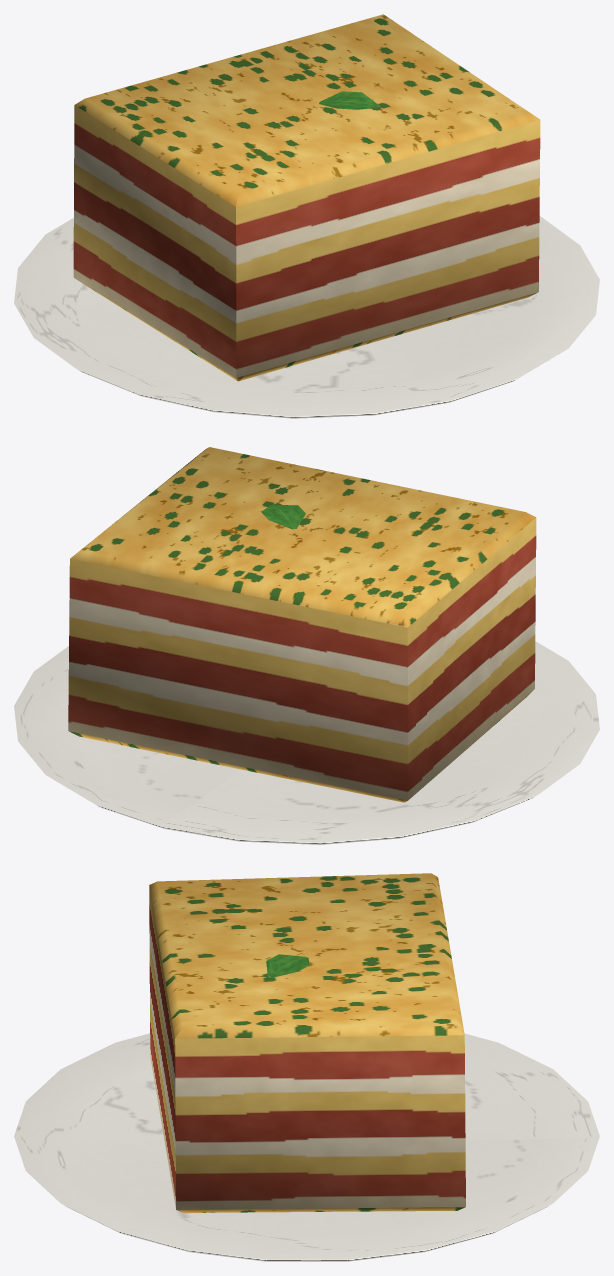
File: lasagna.obj
3 views of the same model, one above another, from view 1: azimuth 30°, elevation 25°; view 2: azimuth 150°, elevation 25°; view 3: azimuth 270°, elevation 25° (orthographic).
Parts seen in each view (by area): view 1: lasagna_0_surface; view 2: lasagna_0_surface; view 3: lasagna_0_surface.
Boxes of the visible parts, box(x1,y1,x2,y2) form: lasagna_0_surface: box(14, 14, 599, 418); lasagna_0_surface: box(14, 447, 599, 844); lasagna_0_surface: box(14, 873, 599, 1261).
Size of the model in its own units: 0.3068 by 0.1226 by 0.31.
1 material, 1 textured.
